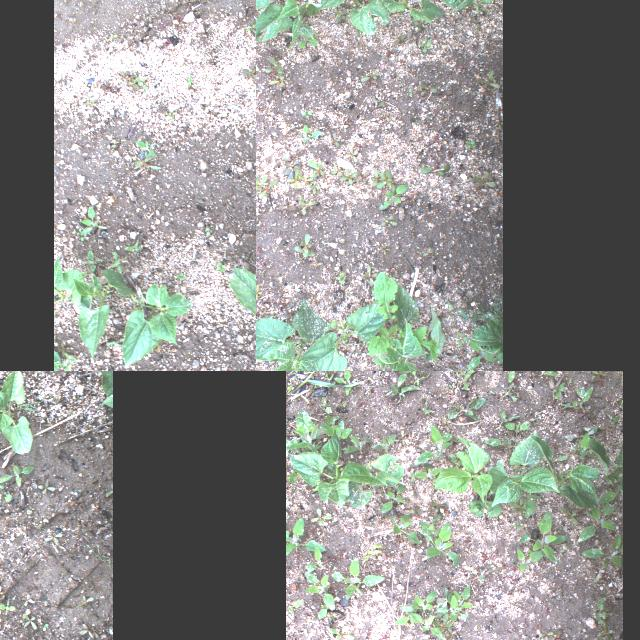crop: (256, 293, 384, 371), (365, 262, 447, 371), (488, 428, 560, 518), (121, 283, 190, 367), (72, 268, 134, 359), (434, 434, 501, 516), (530, 436, 600, 508), (288, 429, 350, 507), (337, 452, 403, 506), (256, 0, 324, 47), (314, 0, 403, 34), (456, 309, 502, 371), (0, 371, 32, 454), (229, 267, 256, 359), (376, 0, 450, 26), (54, 256, 82, 316), (588, 438, 622, 484), (97, 371, 112, 408)
weed: (519, 511, 567, 564), (330, 557, 384, 597), (418, 520, 459, 568), (286, 410, 320, 462), (285, 517, 325, 559), (414, 424, 452, 468), (439, 371, 498, 399), (430, 582, 472, 620), (394, 588, 438, 624), (302, 572, 334, 620), (292, 371, 365, 392), (582, 533, 622, 569), (578, 502, 614, 540), (384, 512, 418, 544), (406, 610, 442, 640), (321, 414, 351, 448), (447, 395, 485, 421), (378, 182, 410, 212), (305, 546, 339, 572), (483, 434, 515, 460), (380, 481, 404, 515), (79, 206, 107, 234), (563, 385, 593, 411), (384, 384, 420, 404), (394, 371, 430, 391), (0, 463, 35, 483), (359, 542, 388, 566), (444, 296, 472, 320), (298, 124, 326, 148), (598, 476, 622, 504), (304, 154, 328, 180), (370, 167, 396, 191), (515, 548, 543, 570), (343, 434, 372, 454), (292, 195, 318, 217), (492, 410, 520, 430), (334, 371, 358, 394), (564, 425, 598, 441), (468, 168, 498, 186), (256, 172, 275, 200), (293, 234, 315, 258), (371, 432, 395, 454), (53, 349, 76, 371), (431, 610, 453, 632), (325, 624, 355, 640), (506, 419, 530, 439), (81, 250, 102, 272), (479, 68, 498, 92), (495, 382, 519, 401), (133, 153, 161, 169), (420, 161, 452, 175), (279, 152, 299, 174), (309, 506, 331, 526), (548, 382, 566, 406), (378, 210, 399, 230), (412, 466, 442, 480), (574, 432, 590, 458), (341, 167, 362, 186), (594, 556, 608, 582), (360, 66, 380, 84), (507, 496, 527, 514), (596, 618, 612, 640), (346, 138, 360, 162), (593, 594, 607, 618), (264, 54, 282, 72), (561, 507, 579, 525), (135, 140, 155, 156), (359, 262, 373, 284), (419, 80, 436, 98), (392, 29, 410, 46), (590, 371, 613, 384), (110, 250, 122, 274), (42, 531, 62, 545), (416, 401, 430, 421), (37, 478, 54, 494), (242, 62, 256, 81), (332, 272, 351, 286), (356, 166, 368, 188), (124, 239, 140, 255), (464, 136, 482, 150), (370, 97, 388, 111), (326, 128, 340, 146), (305, 181, 323, 195), (278, 198, 296, 212), (286, 598, 304, 612), (507, 371, 529, 382), (20, 593, 36, 607), (444, 624, 458, 640), (318, 396, 332, 412), (0, 599, 15, 613), (546, 627, 562, 640), (286, 170, 298, 187), (398, 429, 410, 446), (420, 34, 430, 54), (22, 615, 36, 629), (80, 624, 94, 638), (599, 422, 613, 436), (268, 74, 284, 86), (374, 371, 388, 384), (428, 502, 446, 512), (136, 76, 148, 90), (298, 174, 312, 186), (530, 371, 558, 377), (100, 80, 112, 92), (0, 491, 13, 502), (302, 106, 312, 120), (538, 631, 552, 640), (323, 371, 332, 385), (245, 21, 256, 32), (256, 281, 262, 301), (58, 342, 66, 356), (80, 596, 94, 604), (448, 382, 457, 394), (128, 78, 138, 88), (105, 339, 119, 346), (76, 228, 84, 240), (185, 76, 192, 88), (166, 110, 174, 120), (422, 248, 432, 256), (330, 166, 340, 174), (83, 98, 95, 104), (109, 32, 118, 40), (42, 622, 49, 632), (176, 272, 184, 280), (126, 74, 136, 80), (218, 262, 225, 270), (380, 244, 386, 253), (236, 367, 249, 371), (112, 140, 118, 148), (488, 388, 496, 394), (206, 226, 210, 234), (120, 72, 126, 76), (84, 270, 86, 276)
